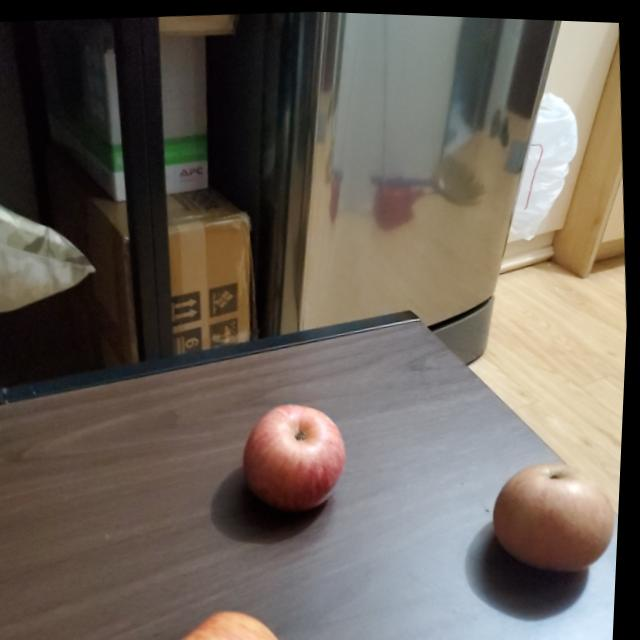apple: (493, 455, 625, 571), (245, 396, 357, 512), (167, 598, 294, 640)
